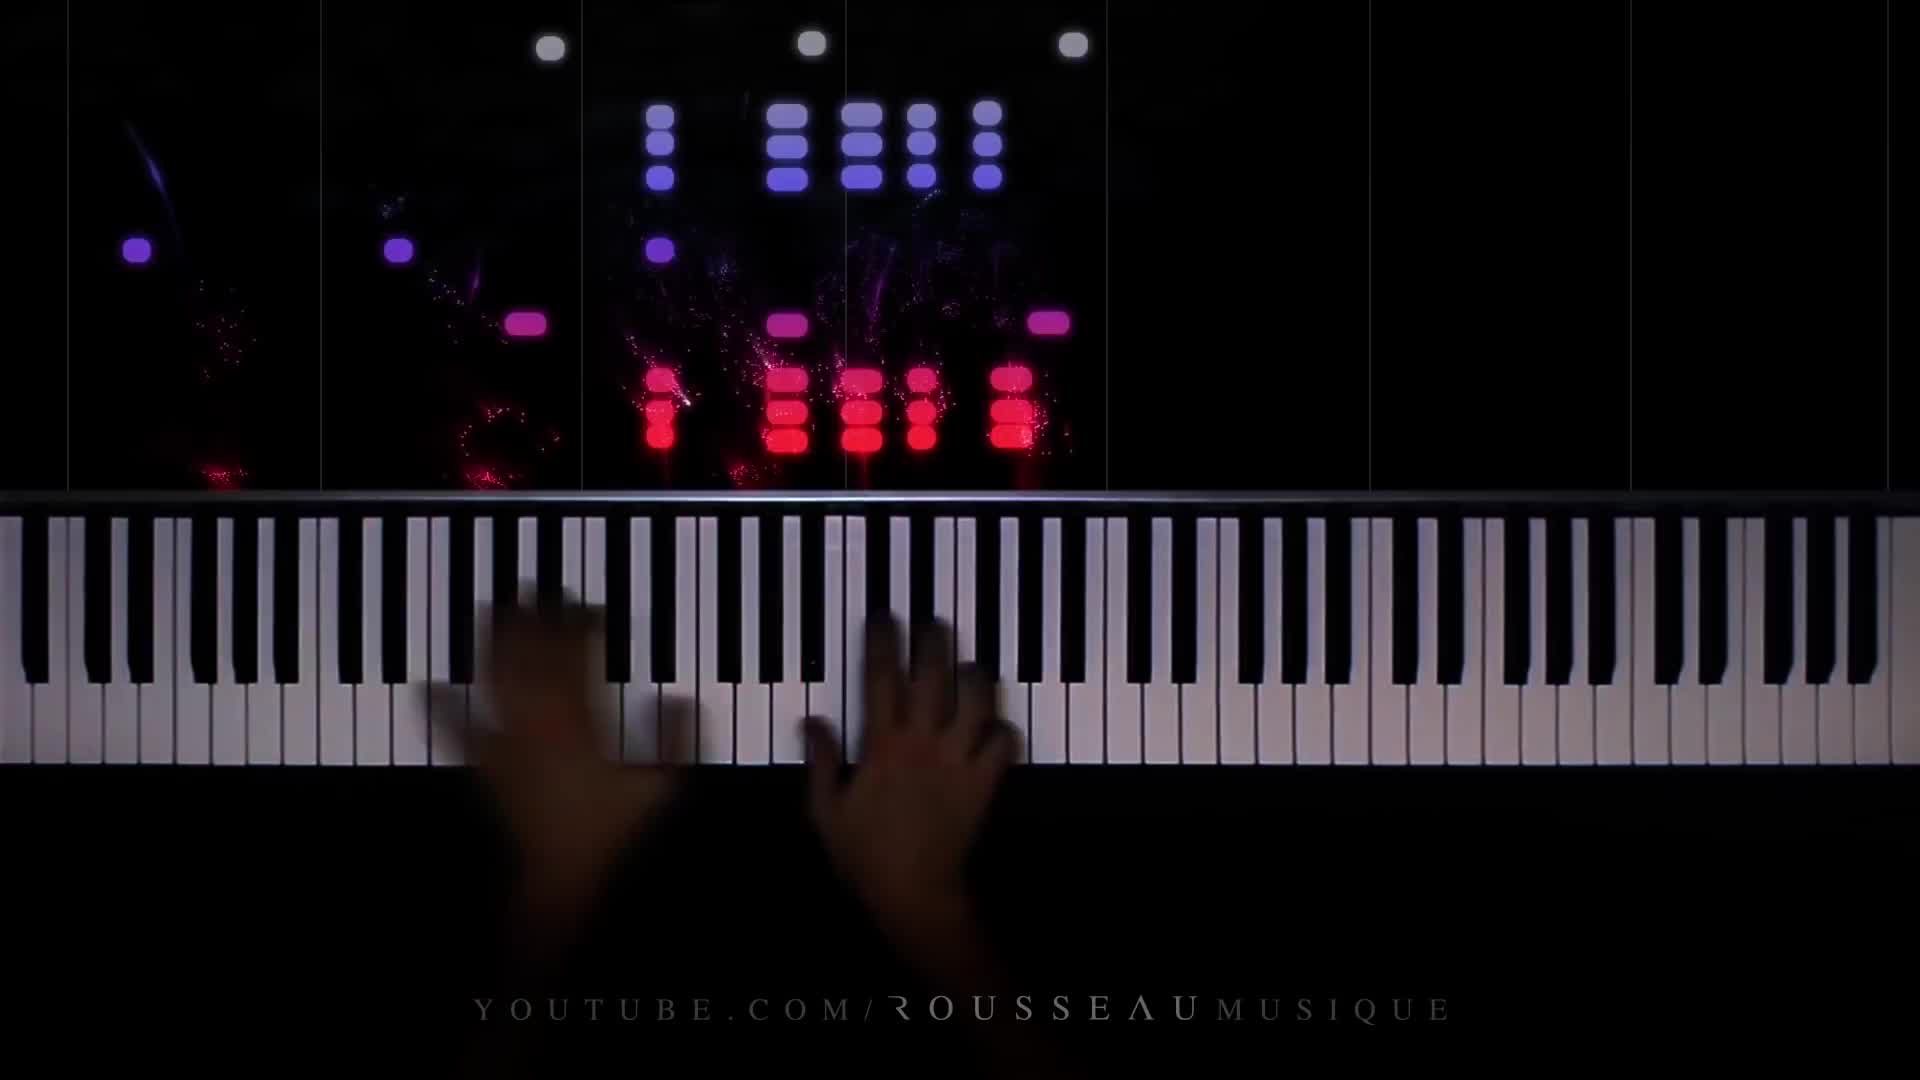left: (418, 588, 698, 864)
right: (798, 604, 1023, 893)
